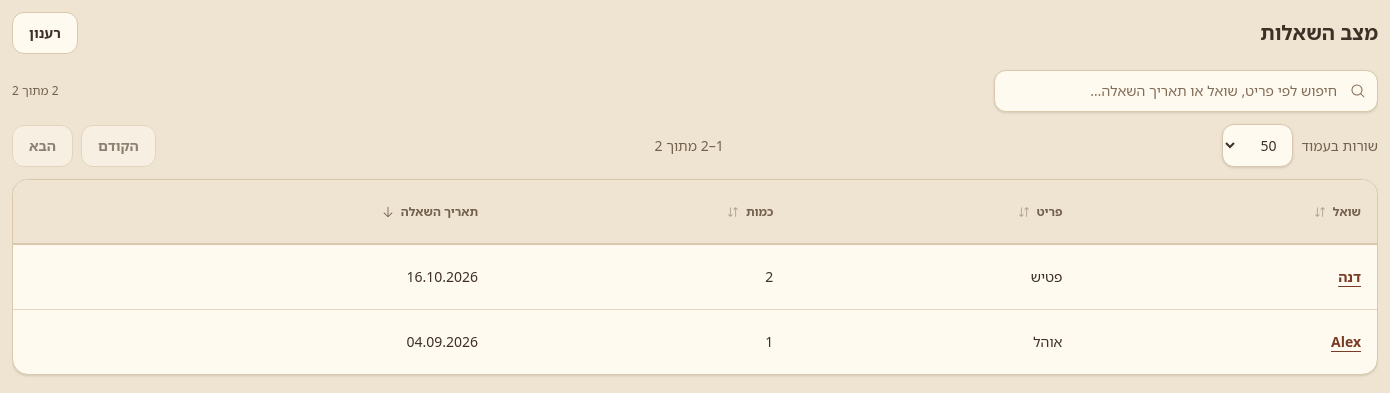
it: outstanding loan status › filters by item, borrower, and local borrow date:   פטי
The image size is (1390, 393).
Type "  פטי  " into the field named "סינון הטבלה" at (1186, 91), box [994, 70, 1378, 112]
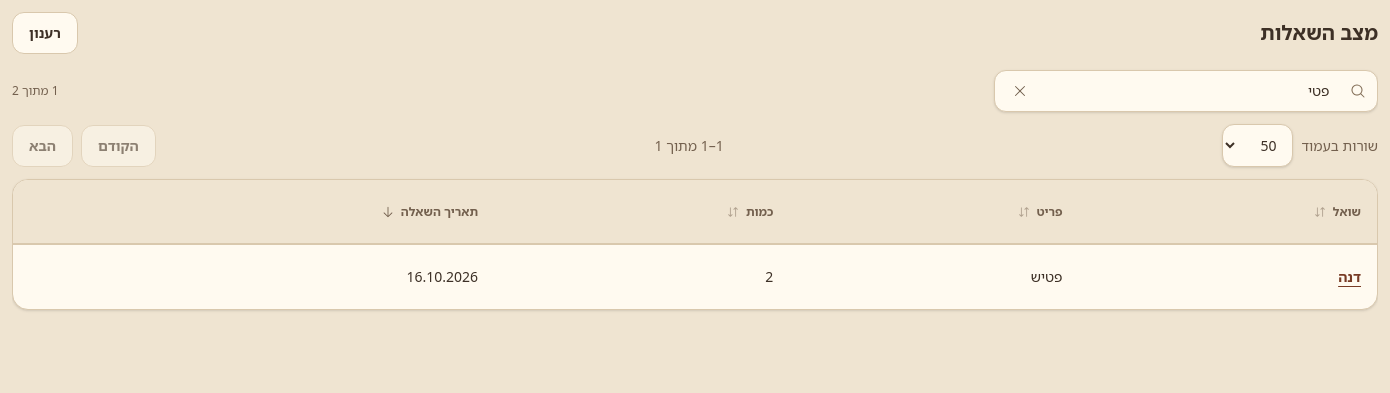
Check: the button "דנה" is shown, box [1338, 257, 1361, 297]
Check: the number of rows is 2, box [13, 180, 1377, 244]; [13, 244, 1377, 309]
Click the button named "ניקוי סינון" at (1020, 91), box [1000, 71, 1040, 111]
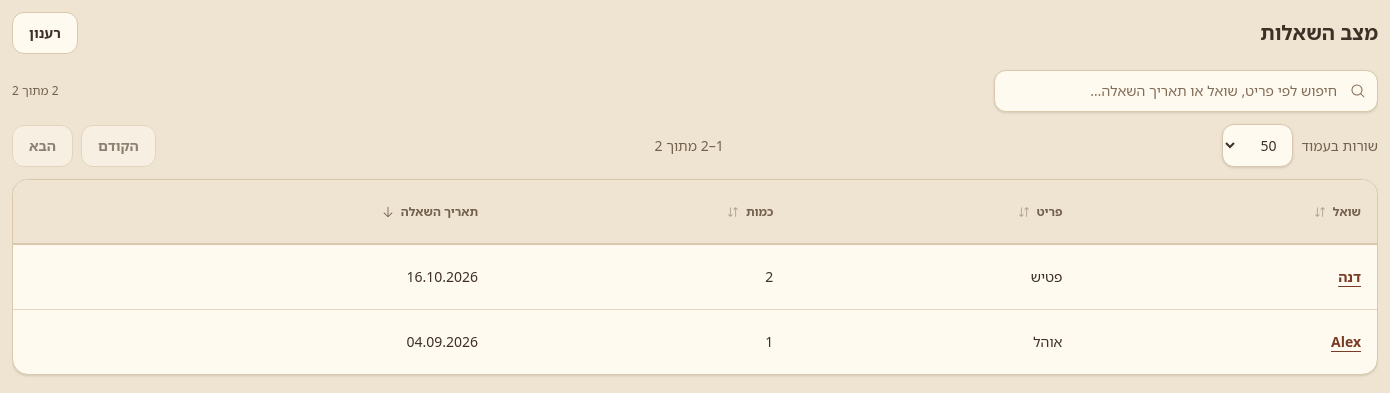
Check: the number of rows is 3, box [13, 180, 1377, 244]; [13, 244, 1377, 310]; [13, 310, 1377, 374]
